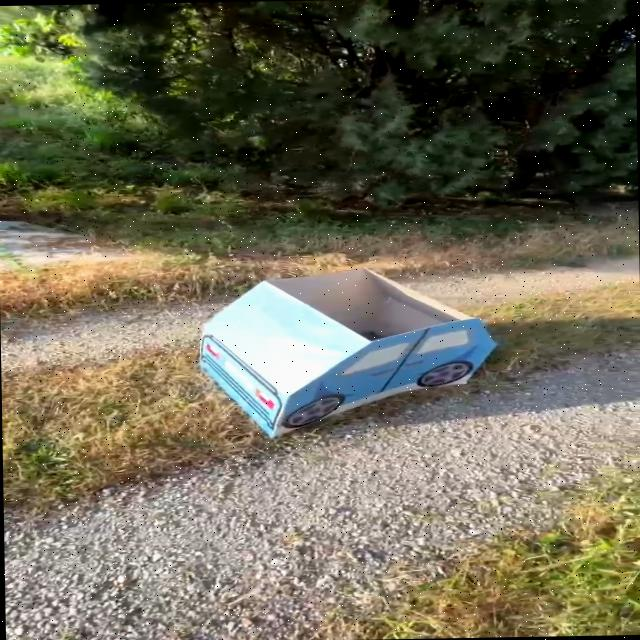blue_car: (147, 247, 546, 458)
